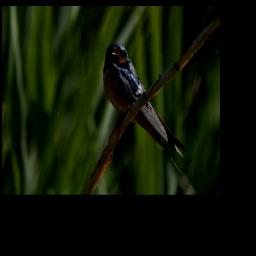Swallow: (103, 41, 189, 182)
